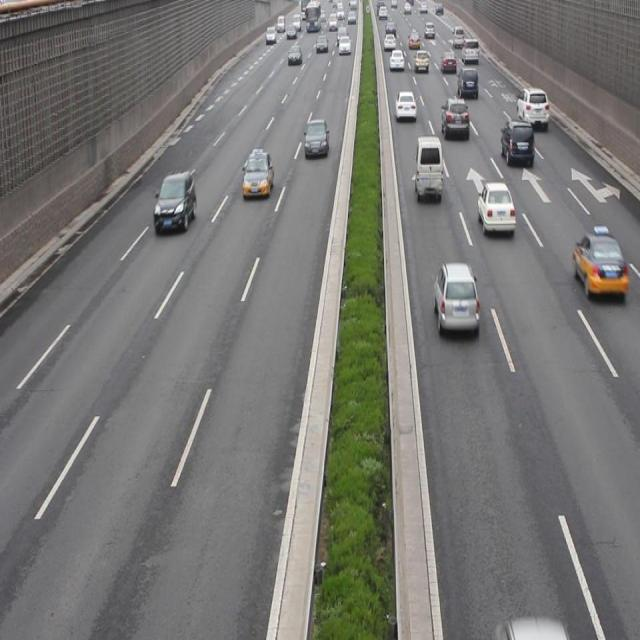car: (572, 229, 624, 300), (432, 264, 478, 339), (153, 174, 194, 232), (476, 182, 514, 238), (501, 118, 531, 170), (244, 149, 272, 199), (516, 88, 547, 130), (441, 96, 468, 139), (304, 117, 327, 157)
truck: (414, 136, 442, 202)
